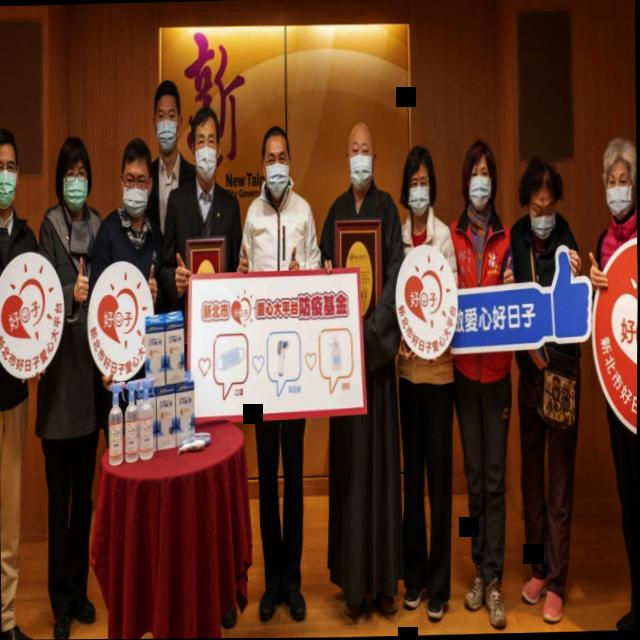Mask: (598, 137, 638, 225), (524, 174, 559, 243), (58, 156, 91, 220), (402, 153, 434, 219), (462, 153, 495, 216), (122, 152, 151, 219), (346, 130, 376, 194), (262, 137, 292, 200), (192, 120, 218, 186), (154, 94, 178, 157), (0, 141, 18, 212)
